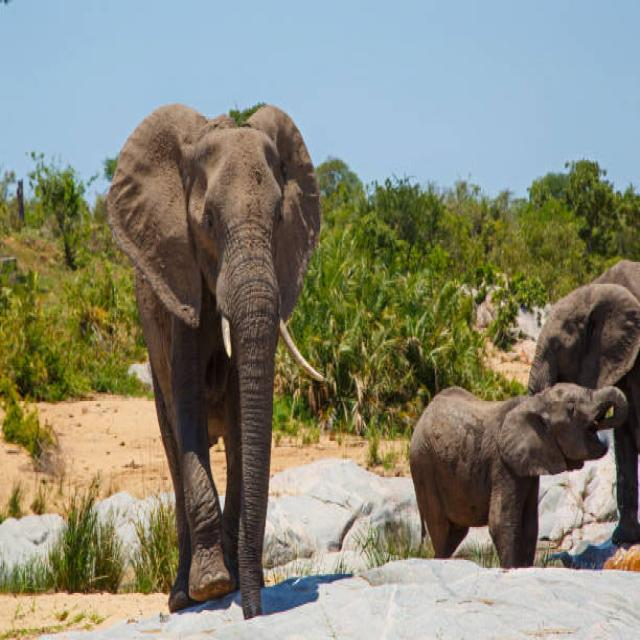Elephant: (98, 100, 336, 625), (398, 358, 628, 602), (501, 221, 640, 538)
